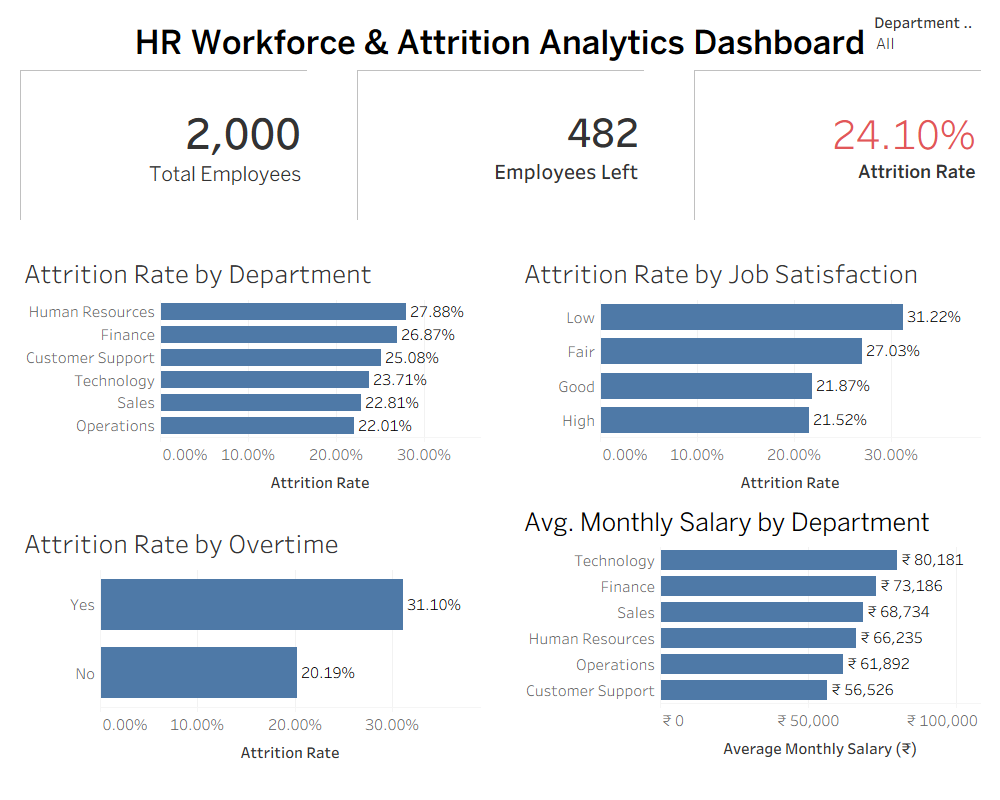

Layout of this report page (visuals, bound fields, positions):
{"tool":"tableau","page":{"name":"Dashboard 1","canvas":[1000,800],"ordinal":0},"visuals":[{"type":"title","box":[8,8,984,70]},{"type":"filter","title":"Attrition Rate by Department","param":"[federated.1g025di1o3z1fy17y8n6o13o54fp].[Department (group)]","box":[874,11,98,46]},{"type":"worksheet","title":"KPI - Total Employees","mark":"Automatic","box":[20,70,287,150]},{"type":"worksheet","title":"KPI - Employees Left","mark":"Automatic","box":[357,70,287,150]},{"type":"worksheet","title":"KPI - Attrition Rate","mark":"Automatic","box":[694,70,287,150]},{"type":"worksheet","title":"Attrition Rate by Department","mark":"Automatic","cols":["Calculation_1186421958750208"],"box":[20,250,460,250]},{"type":"worksheet","title":"Attrition Rate by Job Satisfaction","mark":"Bar","rows":["Job_Satisfaction"],"cols":["Calculation_1186421958750208"],"box":[520,250,460,250]},{"type":"worksheet","title":"Average Monthly Salary by Department","mark":"Automatic","cols":["Monthly_Salary_INR"],"box":[520,500,460,266]},{"type":"worksheet","title":"Attrition Rate by Overtime","mark":"Automatic","cols":["Calculation_1186421958750208"],"box":[20,520,460,250]}]}

Visuals, with their boxes in screenshot pixels (x1, y1, x2, y2), scaled from the page's 1000x800 canvas onto the 1000x800 screenshot:
title: [left=8, top=8, right=992, bottom=78]
"Attrition Rate by Department" filter: [left=874, top=11, right=972, bottom=57]
"KPI - Total Employees" worksheet: [left=20, top=70, right=307, bottom=220]
"KPI - Employees Left" worksheet: [left=357, top=70, right=644, bottom=220]
"KPI - Attrition Rate" worksheet: [left=694, top=70, right=981, bottom=220]
"Attrition Rate by Department" worksheet: [left=20, top=250, right=480, bottom=500]
"Attrition Rate by Job Satisfaction" worksheet (Bar marks): [left=520, top=250, right=980, bottom=500]
"Average Monthly Salary by Department" worksheet: [left=520, top=500, right=980, bottom=766]
"Attrition Rate by Overtime" worksheet: [left=20, top=520, right=480, bottom=770]
